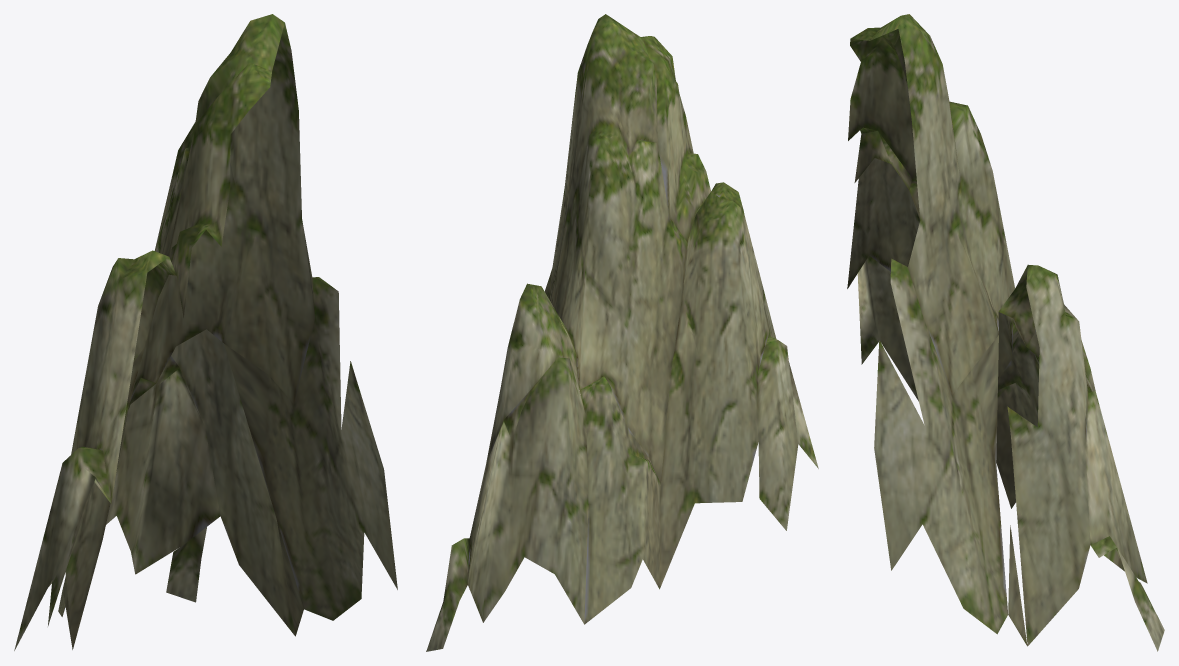
The model's file is S_Rock_Green078_H2.FBX.
3 renders of one model, left to right at view 1: azimuth 30°, elevation 25°; view 2: azimuth 150°, elevation 25°; view 3: azimuth 270°, elevation 25°, orthographic. The views are drawn at different scales.
Visible parts, largest first — view 1: S_Rock_Green078_H2; view 2: S_Rock_Green078_H2; view 3: S_Rock_Green078_H2.
Part boxes in pixels (left/top/right/bottom): S_Rock_Green078_H2: left=14, top=14, right=397, bottom=650; S_Rock_Green078_H2: left=426, top=14, right=818, bottom=651; S_Rock_Green078_H2: left=847, top=14, right=1164, bottom=651.
Bounding box in the file's own units: 4284 × 7865 × 3741.
Materials: 1 (1 with a texture image).
